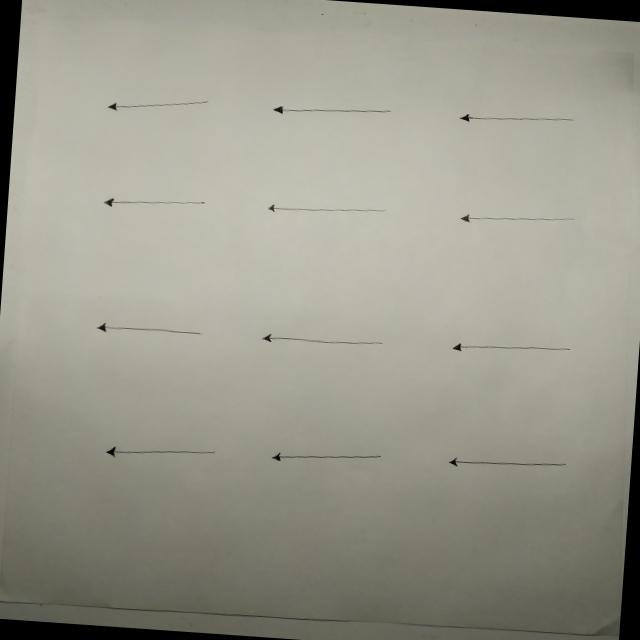arrow_line_left: (446, 98, 586, 138), (93, 434, 234, 472), (260, 438, 400, 476), (258, 91, 394, 130), (444, 332, 585, 368), (442, 445, 578, 482), (256, 192, 394, 226), (255, 324, 394, 356), (99, 86, 216, 124), (449, 202, 584, 232), (86, 317, 212, 343), (97, 190, 213, 216)
